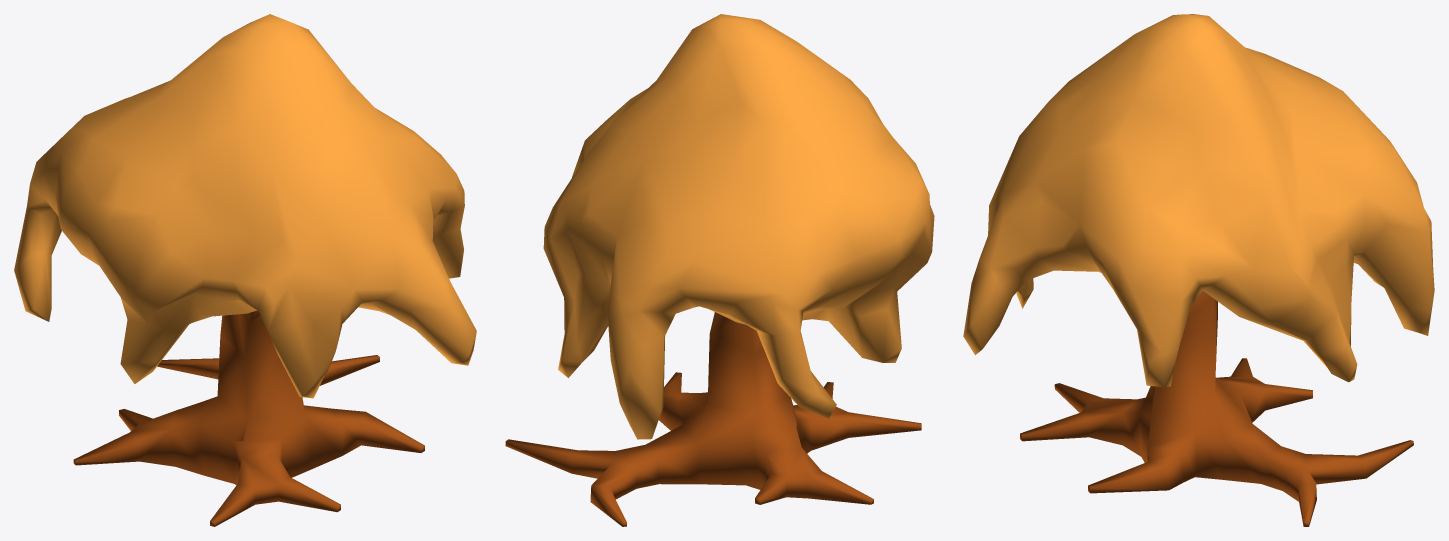
File: Tree_22_Fall.fbx
3 renders of one model, left to right at view 1: azimuth 30°, elevation 25°; view 2: azimuth 150°, elevation 25°; view 3: azimuth 270°, elevation 25°, orthographic.
Parts seen in each view (by area): view 1: Tree_22_p2_Fall, Tree_22_p1_Fall; view 2: Tree_22_p2_Fall, Tree_22_p1_Fall; view 3: Tree_22_p2_Fall, Tree_22_p1_Fall.
Boxes of the visible parts, x1,y1,x2,y2 form: Tree_22_p2_Fall: (14,14,476,398); Tree_22_p1_Fall: (73,310,424,526); Tree_22_p2_Fall: (543,14,934,439); Tree_22_p1_Fall: (505,312,921,526); Tree_22_p2_Fall: (963,14,1434,387); Tree_22_p1_Fall: (1020,291,1413,526).
Size of the model in its own units: 530 by 620 by 593.
